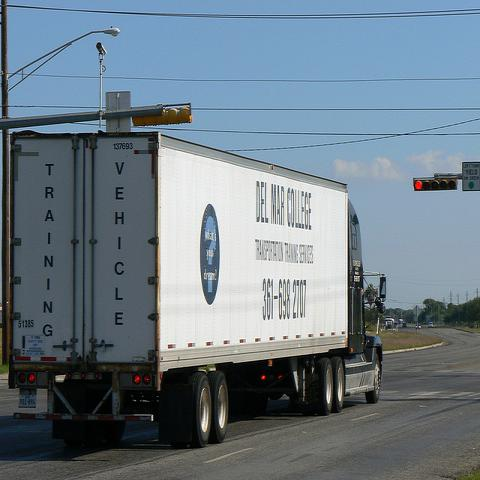truck: (2, 126, 390, 450)
